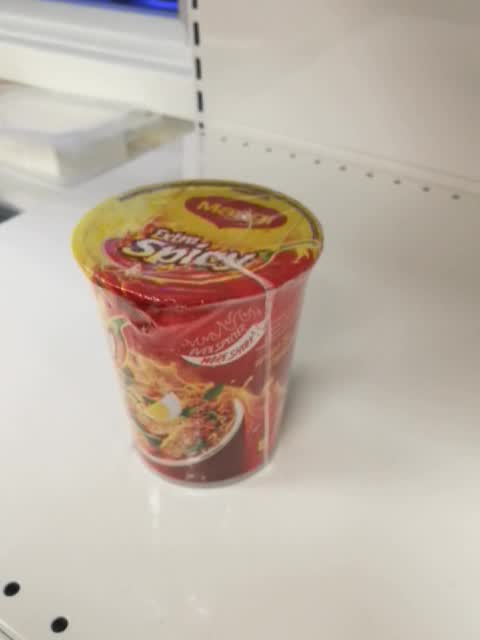maggi: (69, 178, 325, 489)
